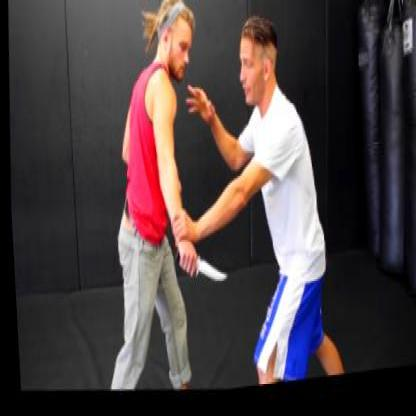knife: (168, 242, 229, 297)
